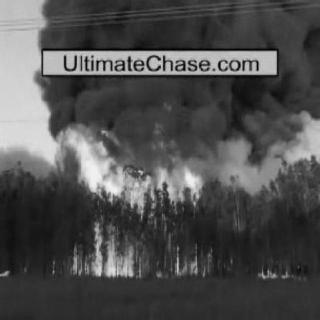Fire: (49, 116, 217, 280)
